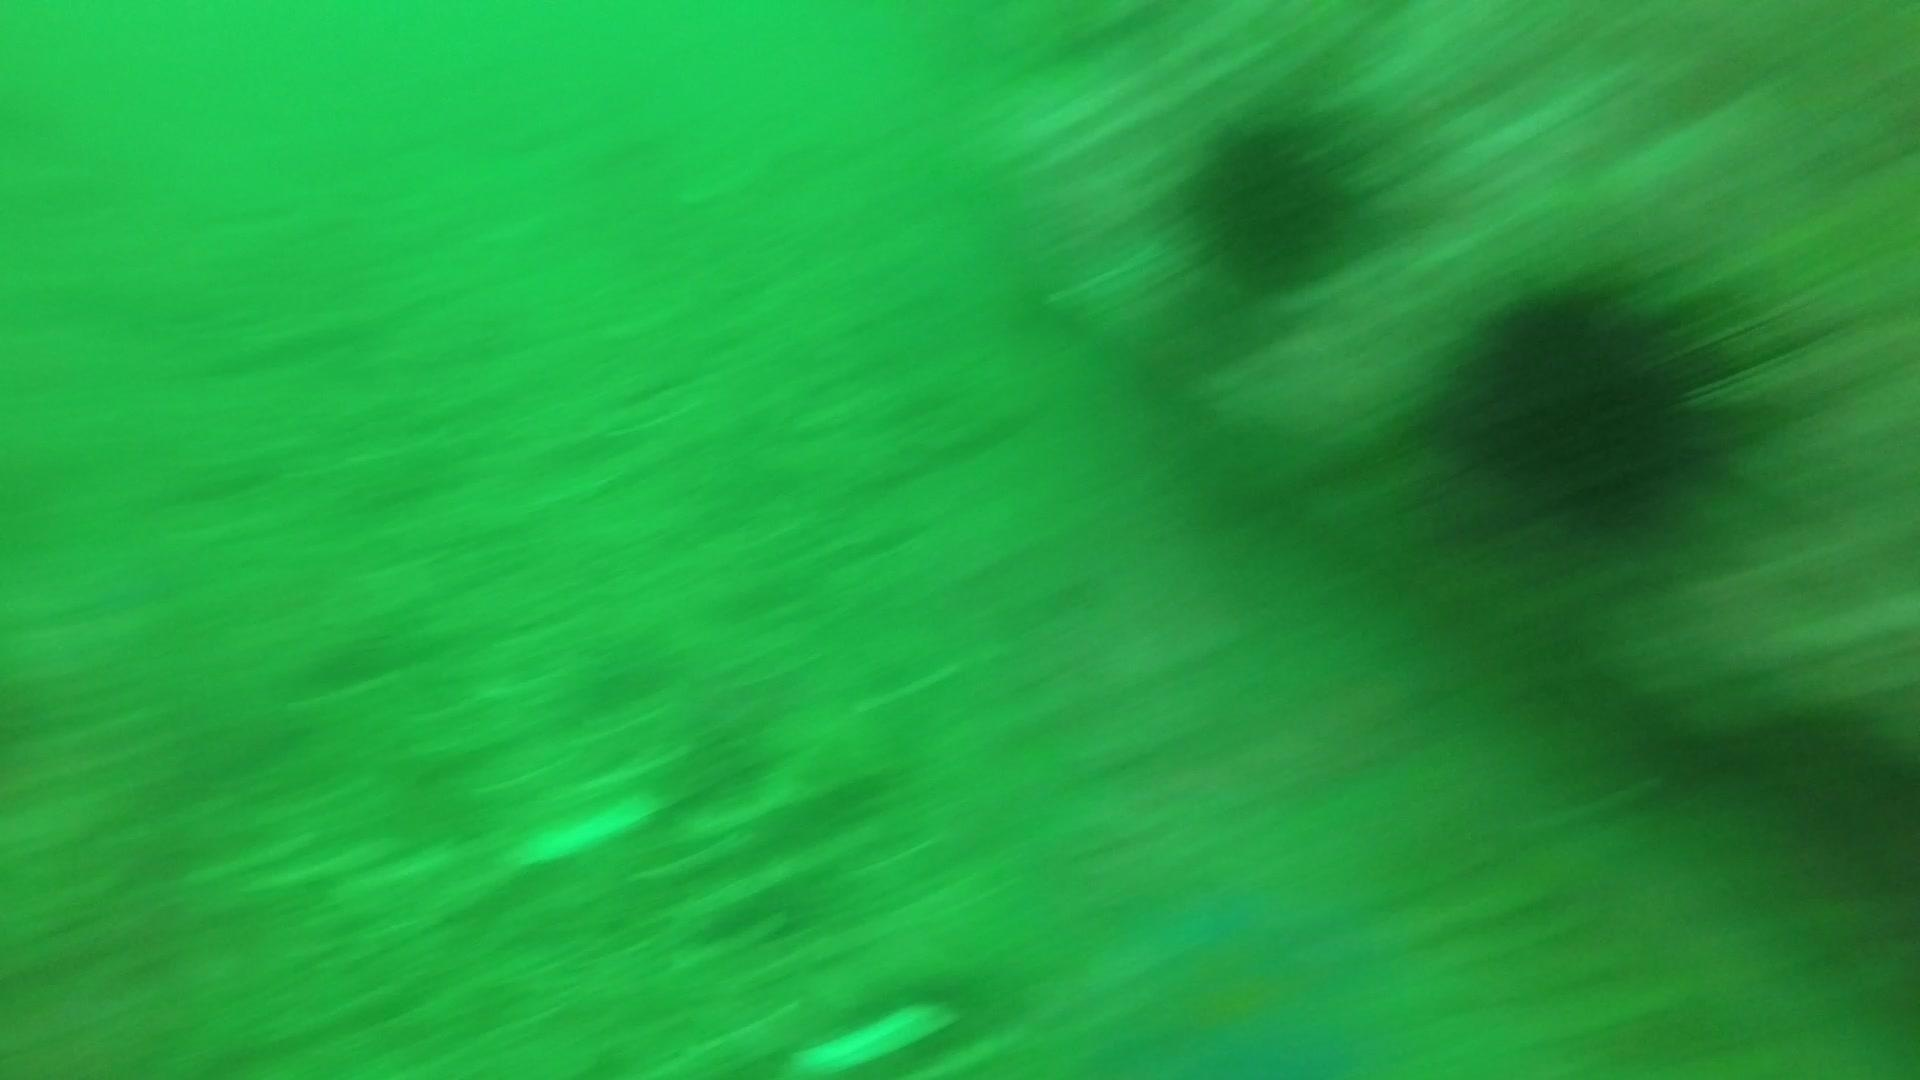echinus: (1427, 257, 1785, 549), (1175, 104, 1379, 297)
starfish: (1079, 866, 1408, 1075)
